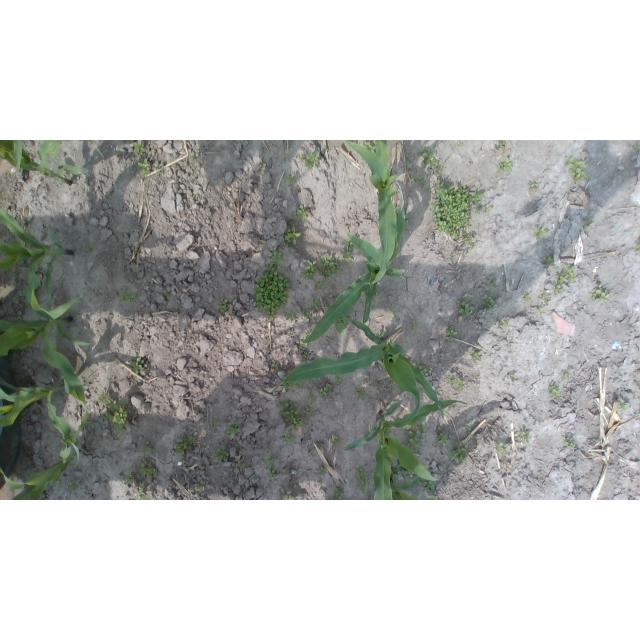Maize: (274, 316, 446, 425), (302, 186, 406, 344), (1, 261, 90, 437), (345, 399, 465, 500), (342, 141, 399, 284), (1, 209, 74, 314), (0, 379, 82, 462), (0, 140, 90, 186), (0, 452, 82, 500), (380, 473, 439, 500)
Weeds: (428, 177, 475, 249), (253, 263, 292, 318), (97, 392, 129, 437), (416, 147, 445, 174), (280, 400, 304, 432), (555, 264, 578, 294), (564, 155, 589, 181), (407, 425, 430, 452), (318, 253, 342, 277), (447, 442, 469, 464), (589, 284, 612, 305), (354, 468, 371, 493), (299, 151, 321, 170), (341, 237, 356, 264), (300, 260, 316, 284), (456, 299, 475, 319), (474, 193, 491, 214), (285, 226, 302, 247), (335, 314, 352, 335), (264, 455, 280, 477), (130, 358, 149, 375), (530, 226, 550, 242), (138, 461, 158, 477), (391, 465, 413, 479), (128, 141, 146, 158), (449, 372, 468, 388), (411, 360, 430, 376), (410, 171, 426, 189), (293, 204, 310, 220), (120, 291, 137, 306), (419, 480, 437, 494), (493, 441, 511, 455), (174, 437, 187, 456), (138, 158, 150, 178), (481, 294, 495, 311), (272, 247, 285, 265), (355, 387, 370, 402), (436, 433, 451, 448), (446, 326, 460, 342), (496, 158, 512, 172), (329, 486, 345, 500), (515, 431, 532, 444), (226, 422, 241, 436), (137, 483, 149, 500), (320, 383, 334, 397), (215, 447, 229, 461), (285, 381, 306, 390), (543, 252, 554, 269), (217, 299, 230, 313), (300, 331, 310, 349), (303, 309, 315, 324), (309, 296, 321, 311), (548, 384, 561, 397), (363, 141, 376, 154), (582, 219, 596, 231), (283, 432, 297, 444), (541, 290, 551, 306), (330, 436, 343, 448), (196, 478, 209, 490), (286, 309, 297, 323), (470, 350, 482, 362), (564, 438, 576, 450), (618, 401, 631, 412), (304, 395, 317, 406), (70, 479, 80, 493), (494, 141, 509, 150), (316, 280, 327, 292), (287, 172, 297, 185), (86, 421, 102, 429), (126, 474, 137, 485), (562, 371, 574, 381), (528, 180, 538, 192), (489, 276, 498, 289), (498, 319, 509, 329), (319, 466, 330, 476), (235, 461, 246, 471), (153, 163, 161, 176), (376, 332, 388, 339), (523, 292, 532, 300), (510, 374, 519, 382), (304, 409, 313, 417), (188, 436, 197, 444), (336, 375, 343, 385), (143, 447, 153, 454), (411, 320, 417, 329), (284, 496, 294, 501), (87, 246, 94, 253), (210, 419, 217, 426), (457, 141, 463, 149), (539, 307, 546, 313), (271, 364, 277, 371), (301, 355, 308, 361), (636, 244, 640, 252), (449, 405, 455, 410), (391, 308, 397, 313), (405, 213, 408, 223), (88, 140, 93, 145), (192, 156, 197, 161), (164, 292, 169, 297)
